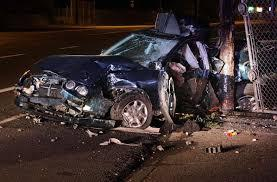Front-Windscreen-Damage: (110, 30, 172, 61)
bonnet-dent: (46, 56, 117, 82)
front-bumper-dent: (33, 80, 75, 115)
